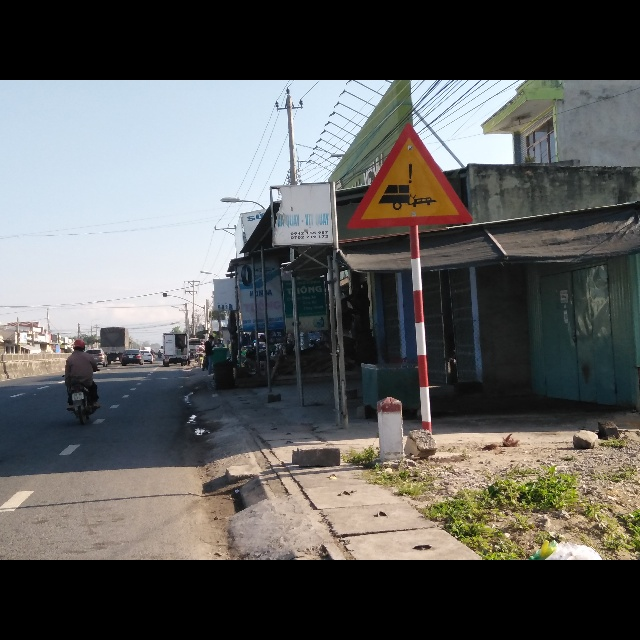Đoạn đường hay xảy ra tai nạn: (345, 122, 476, 231)
